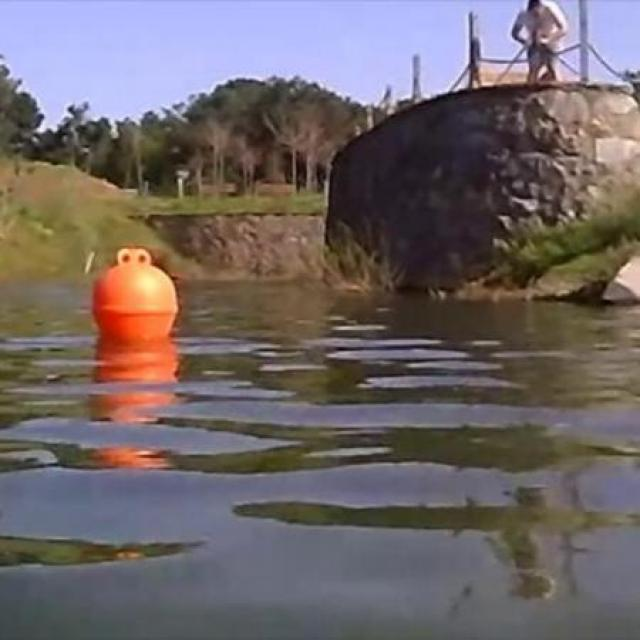buoy: (93, 246, 179, 344)
